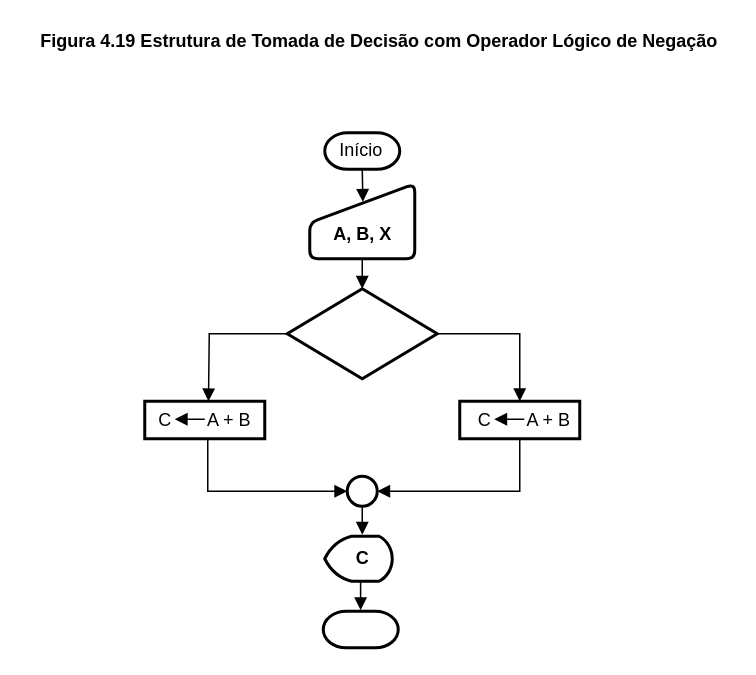
The diagram is 756 pixels wide and 675 high, and some of its shapes have lost their labels. Here are the shapes that lost their labels. From the top down, the centre of each, then its label:
At point 361,333: "nao X > 5".
At point 360,629: "Fim".
